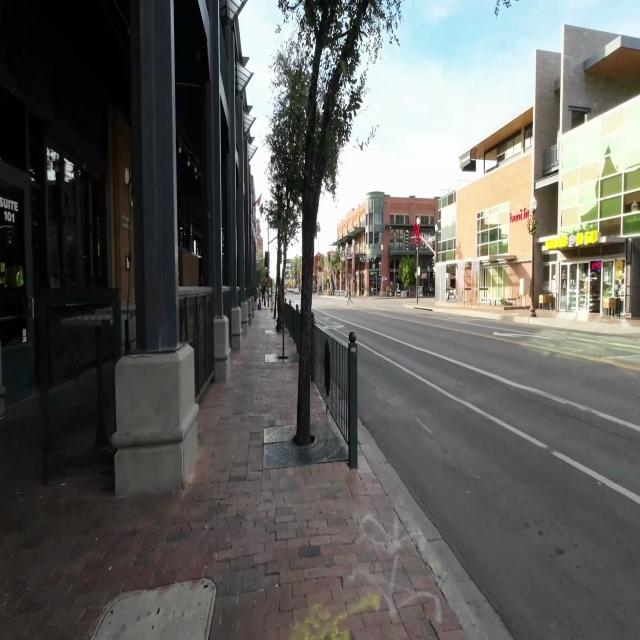road: (314, 298, 640, 639)
side walk: (0, 310, 465, 639)
